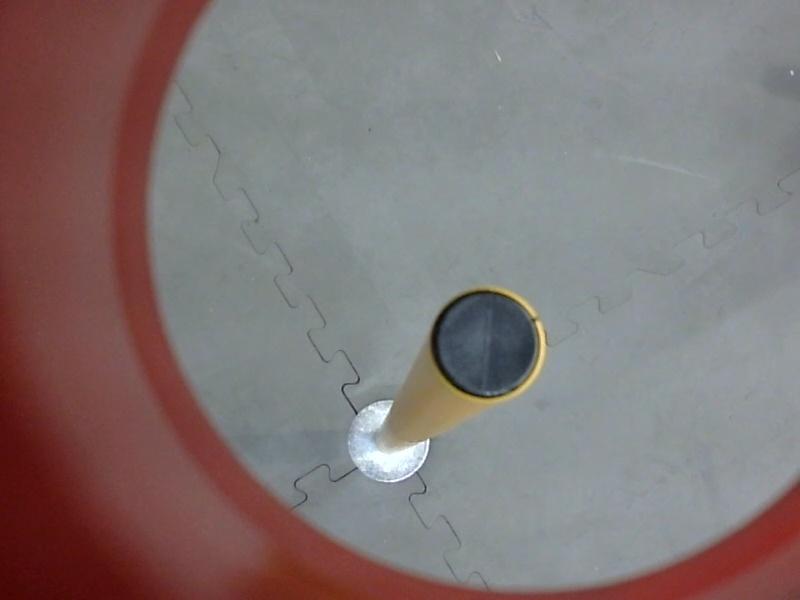tip: (425, 278, 552, 405)
